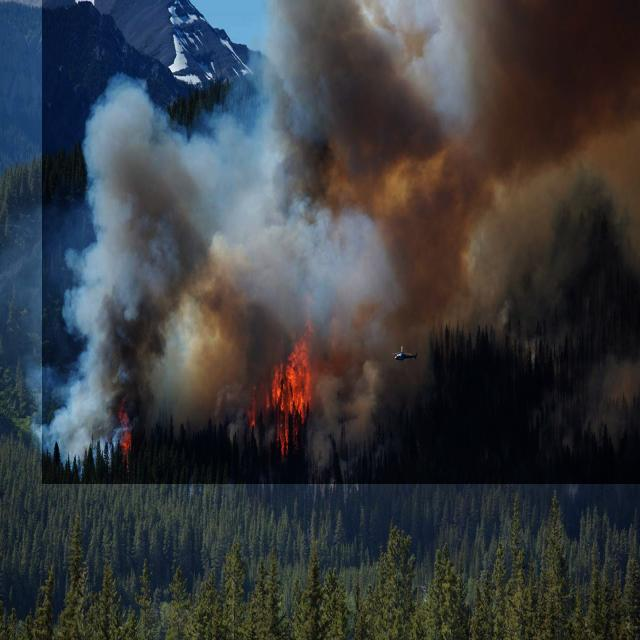Smoke: (42, 0, 640, 484)
